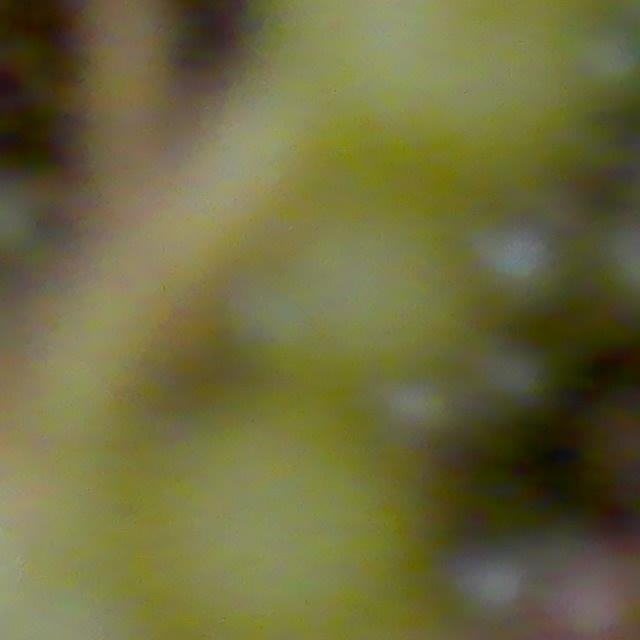SeaGrape: (468, 219, 565, 311), (472, 339, 559, 420)
